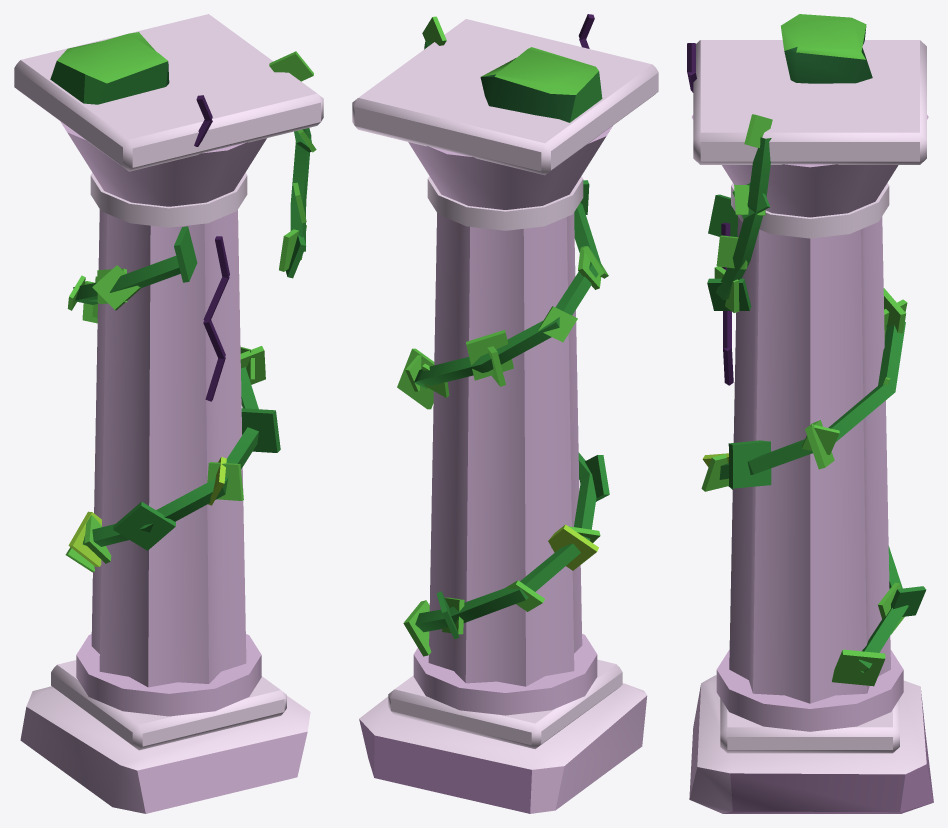
File: me_column.glb
3 views of the same model, side by side, from view 1: azimuth 30°, elevation 25°; view 2: azimuth 150°, elevation 25°; view 3: azimuth 270°, elevation 25° (orthographic).
Visible parts, largest first — view 1: me_column; view 2: me_column; view 3: me_column.
Boxes of the visible parts, <box> form: me_column: <box>14,14,323,813</box>; me_column: <box>352,14,658,813</box>; me_column: <box>687,14,933,813</box>.
Size of the model in its own units: 1.43 by 4.43 by 1.37.
1 material, 1 textured.
